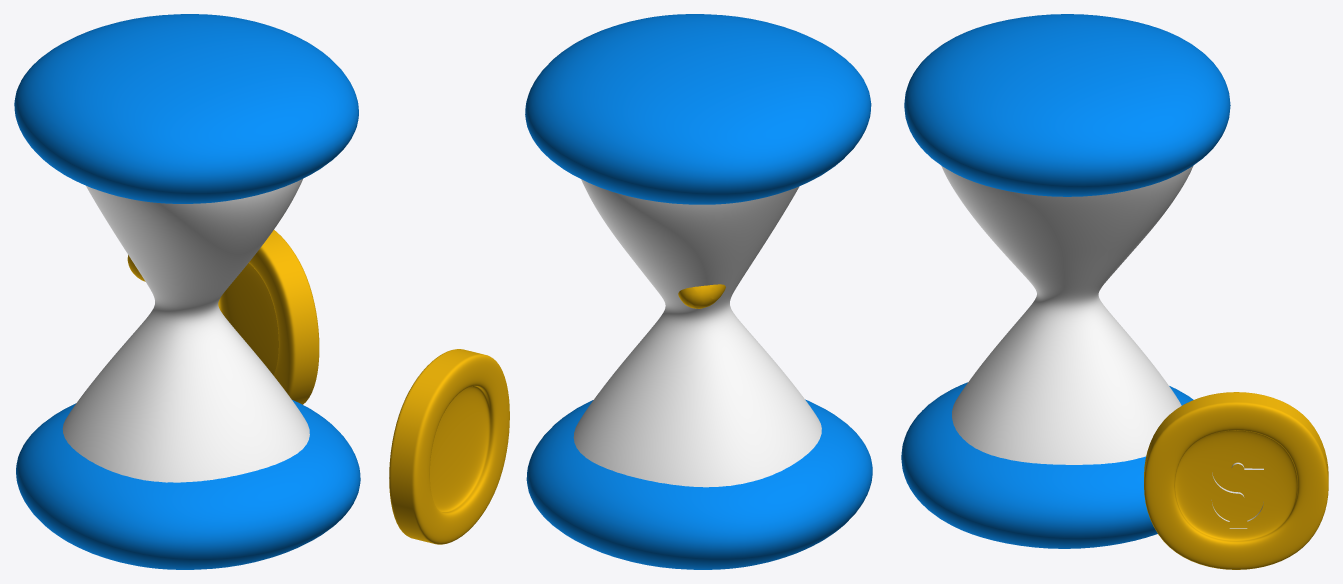
Rendered from loan-period-6507823-0.glb.
3 views of the same model, side by side, from view 1: azimuth 30°, elevation 25°; view 2: azimuth 150°, elevation 25°; view 3: azimuth 270°, elevation 25° (orthographic). The views are drawn at different scales.
Parts seen in each view (by area): view 1: Cube, Cube.001, Cube.002, Cube.004; view 2: Cube, Cube.001, Cube.002, Cube.004, Mball.013; view 3: Cube, Cube.001, Cube.004, Cube.002.
Boxes of the visible parts, x1,y1,x2,y2 form: Cube: (14, 14, 358, 203); Cube.001: (62, 179, 309, 482); Cube.002: (16, 400, 360, 569); Cube.004: (218, 230, 319, 404); Cube: (525, 14, 871, 204); Cube.001: (573, 179, 821, 487); Cube.002: (526, 399, 872, 569); Cube.004: (389, 349, 509, 544); Mball.013: (678, 284, 725, 308); Cube: (904, 14, 1230, 196); Cube.001: (941, 165, 1193, 464); Cube.004: (1144, 392, 1328, 569); Cube.002: (901, 382, 1193, 548).
Bounding box in the file's own units: 4.98 × 7.13 × 5.94.
